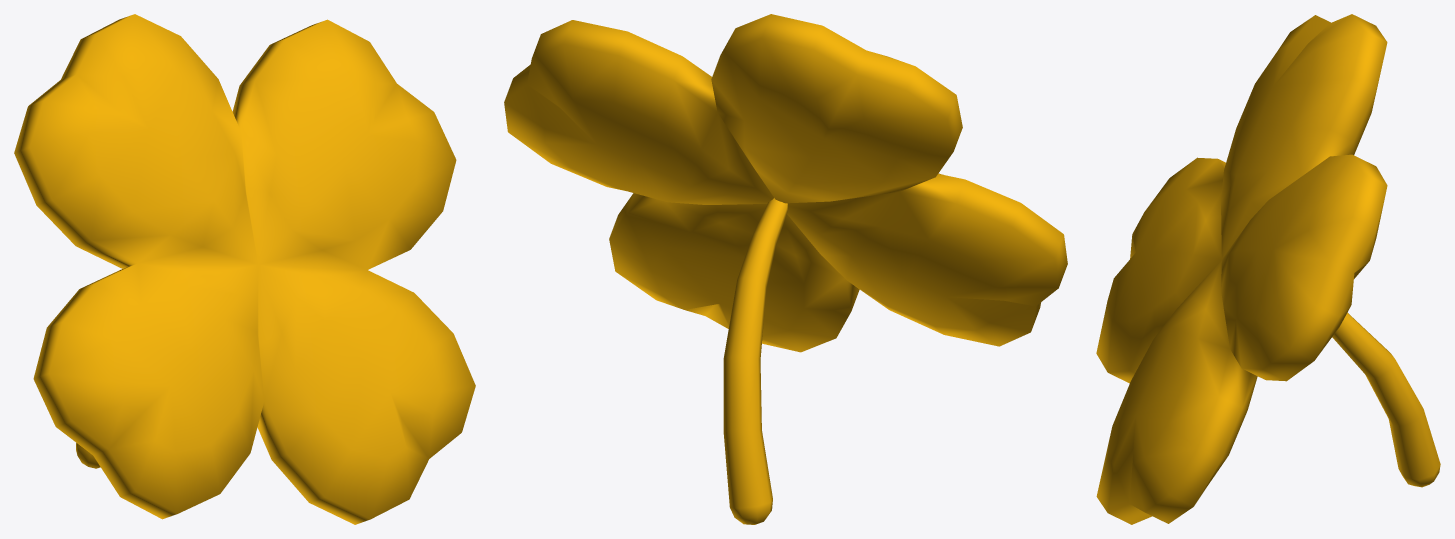
3 views of the same model, side by side, from view 1: azimuth 30°, elevation 25°; view 2: azimuth 150°, elevation 25°; view 3: azimuth 270°, elevation 25° (orthographic). The views are drawn at different scales.
Parts seen in each view (by area): view 1: model_1.050; view 2: model_1.050; view 3: model_1.050.
Boxes of the visible parts, box(x1,y1,x2,y2) form: model_1.050: box(14, 14, 475, 524); model_1.050: box(504, 14, 1067, 524); model_1.050: box(1096, 14, 1440, 524).
Size of the model in its own units: 4.63 by 4.4 by 2.99.
